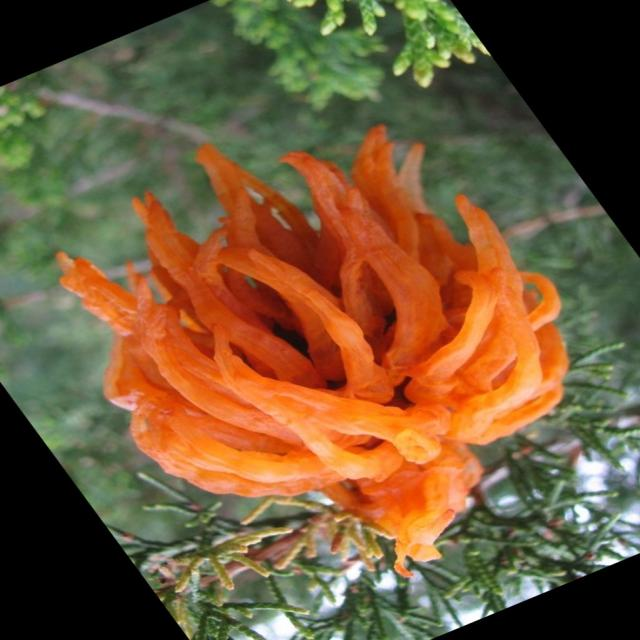Gymnosporangium_Rusts: (55, 122, 571, 577)
